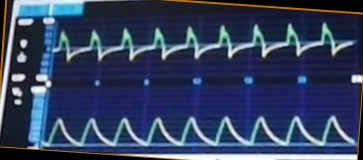Accumulation Flow: (58, 18, 348, 75)
Volume: (49, 96, 348, 149)
